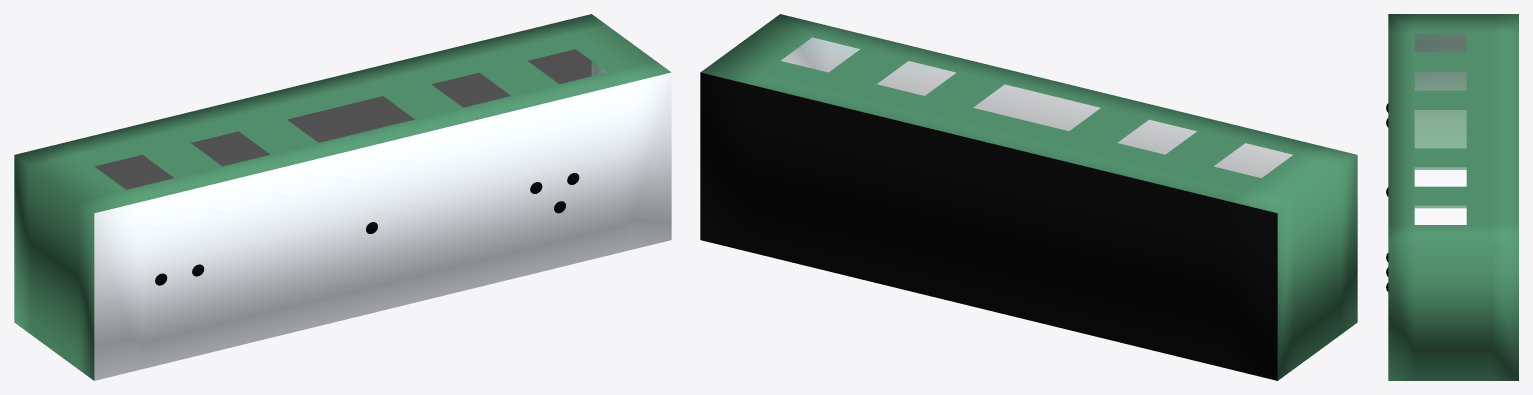
File: asset2.glb
3 views of the same model, side by side, from view 1: azimuth 30°, elevation 25°; view 2: azimuth 150°, elevation 25°; view 3: azimuth 270°, elevation 25° (orthographic). The views are drawn at different scales.
Visible parts, largest first — view 1: Cube1, Cube16; view 2: Cube1, Cube16; view 3: Cube1, Cube16.
Part boxes in pixels (x1,y1,x2,y2): Cube1: [14, 14, 671, 380]; Cube16: [95, 49, 606, 189]; Cube1: [700, 14, 1357, 380]; Cube16: [781, 38, 1292, 177]; Cube1: [1388, 14, 1518, 380]; Cube16: [1415, 33, 1466, 224].
Size of what is drawn, in the model's own units: 1 by 0.2774 by 0.244.
